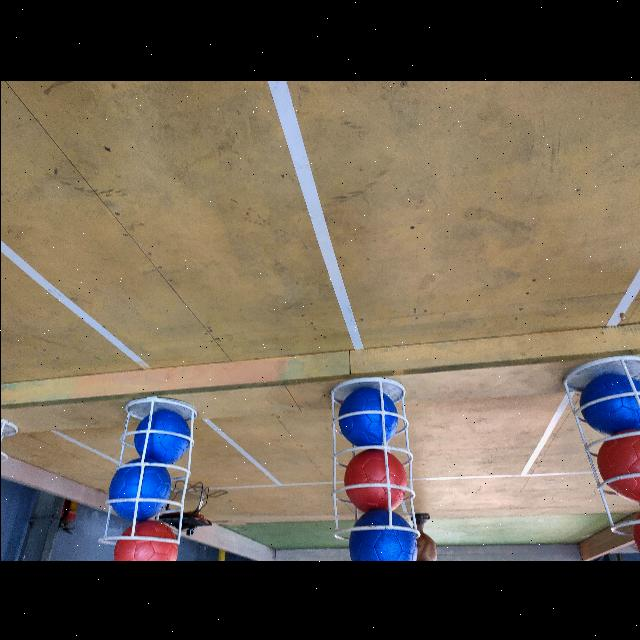B: (108, 456, 170, 520), (337, 384, 399, 446), (347, 510, 417, 560), (578, 372, 640, 428), (132, 408, 188, 464)
R: (341, 448, 405, 509), (594, 436, 640, 502), (113, 520, 177, 560)
